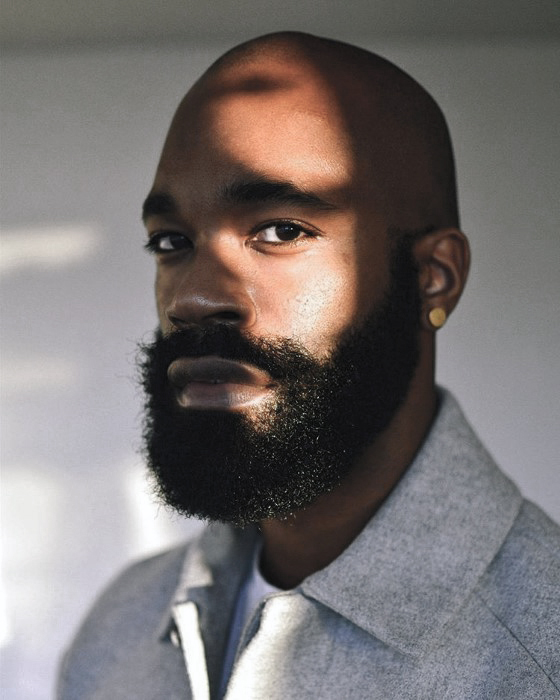bare: (143, 270, 373, 518)
